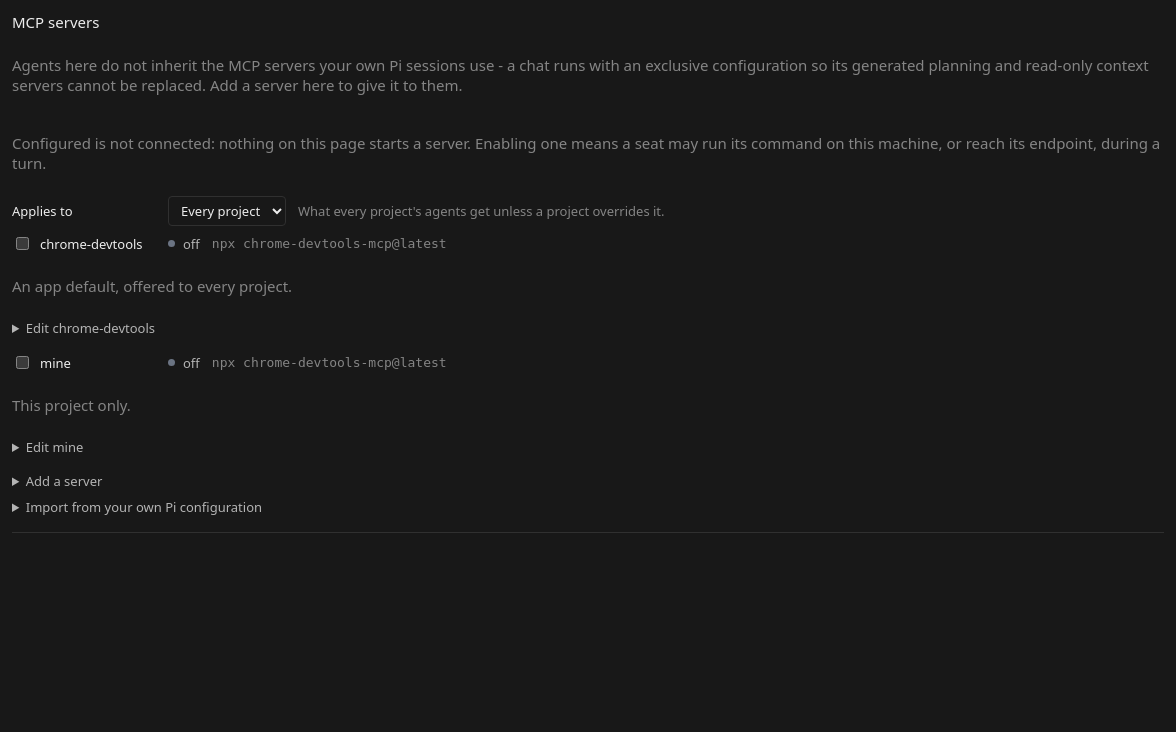
it: explains an app default where a project is selected
Check: the text "chrome-devtools" is shown, box [40, 234, 143, 252]
Select "Widget" in the dropdown named "server scope" at [227, 211], box [168, 196, 286, 226]
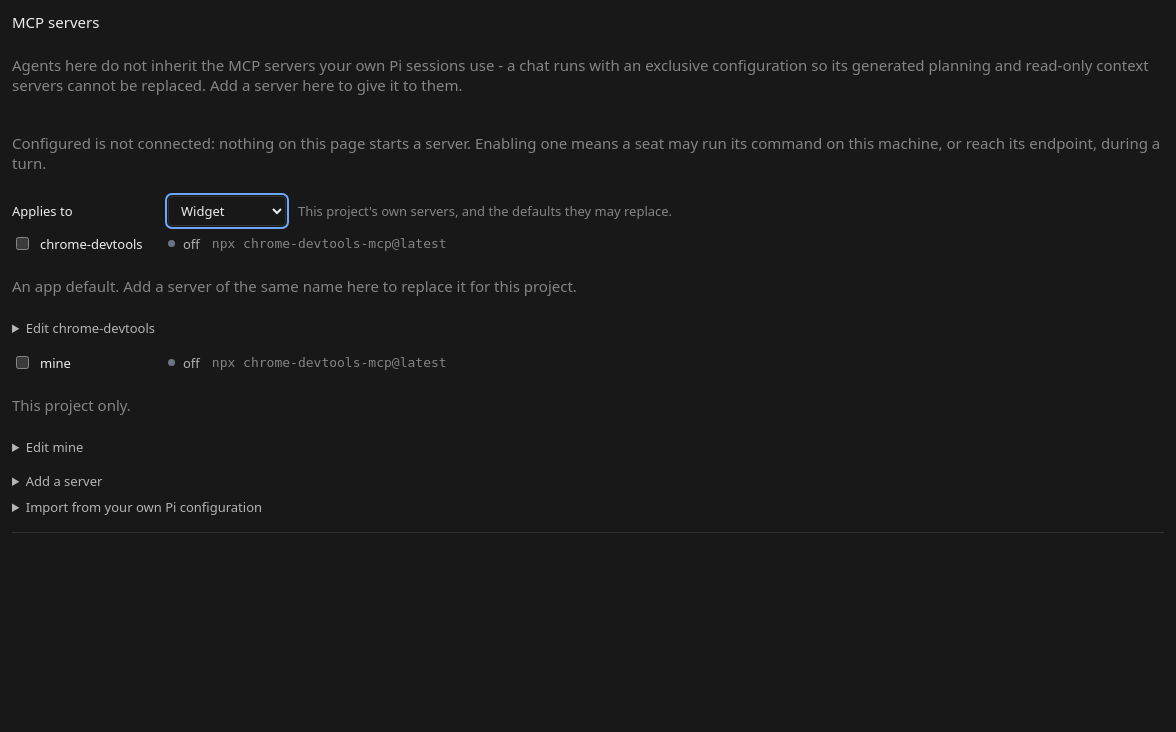
Check: the text "This project only." is shown, box [12, 395, 131, 415]
Check: the text "Add a server of the same name here to replace it" is shown, box [12, 276, 577, 296]
